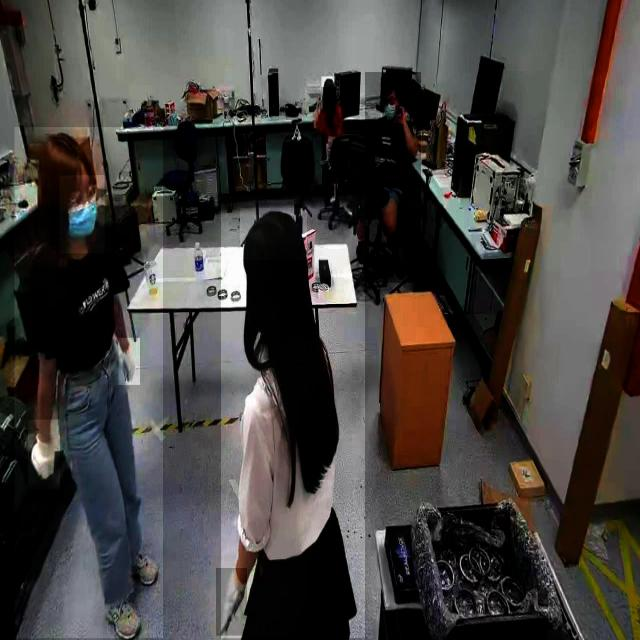face_mask: (59, 175, 104, 253), (380, 97, 398, 125)
glasses: (576, 225, 607, 291), (66, 180, 98, 213)
hand_glove: (28, 420, 60, 490), (216, 568, 248, 636), (118, 338, 140, 385)
hand_noglove: (396, 100, 406, 128)
head_helmet: (488, 339, 536, 387)
head_nohelmet: (240, 208, 308, 260), (37, 130, 93, 173), (380, 77, 400, 89), (322, 76, 336, 88)
person: (15, 127, 164, 639), (221, 196, 365, 639), (365, 72, 421, 284), (488, 169, 536, 236)
shoes: (548, 515, 588, 590), (97, 581, 143, 640), (122, 542, 162, 590), (573, 384, 609, 430)
vest: (536, 95, 588, 134)
